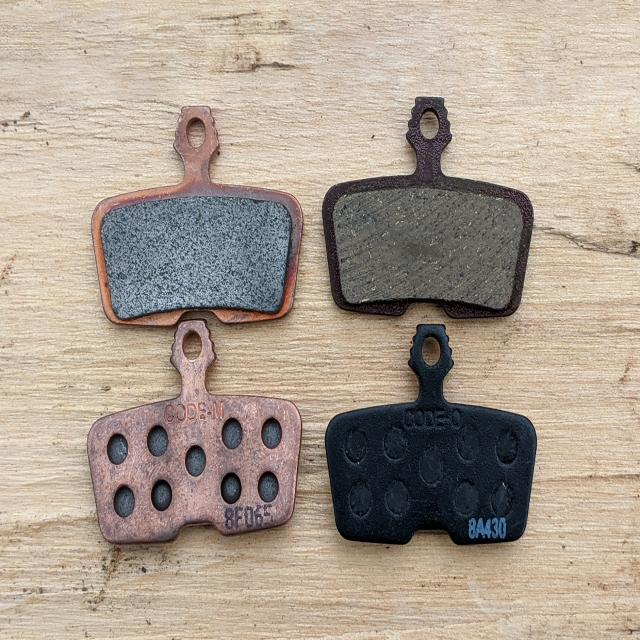brake_pad: (320, 98, 546, 322), (85, 335, 310, 559), (333, 330, 541, 561), (89, 112, 308, 330)
